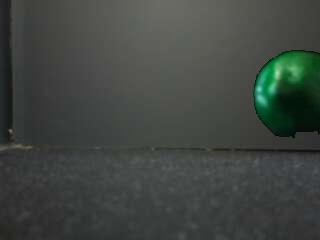Lime: (249, 47, 320, 141)
